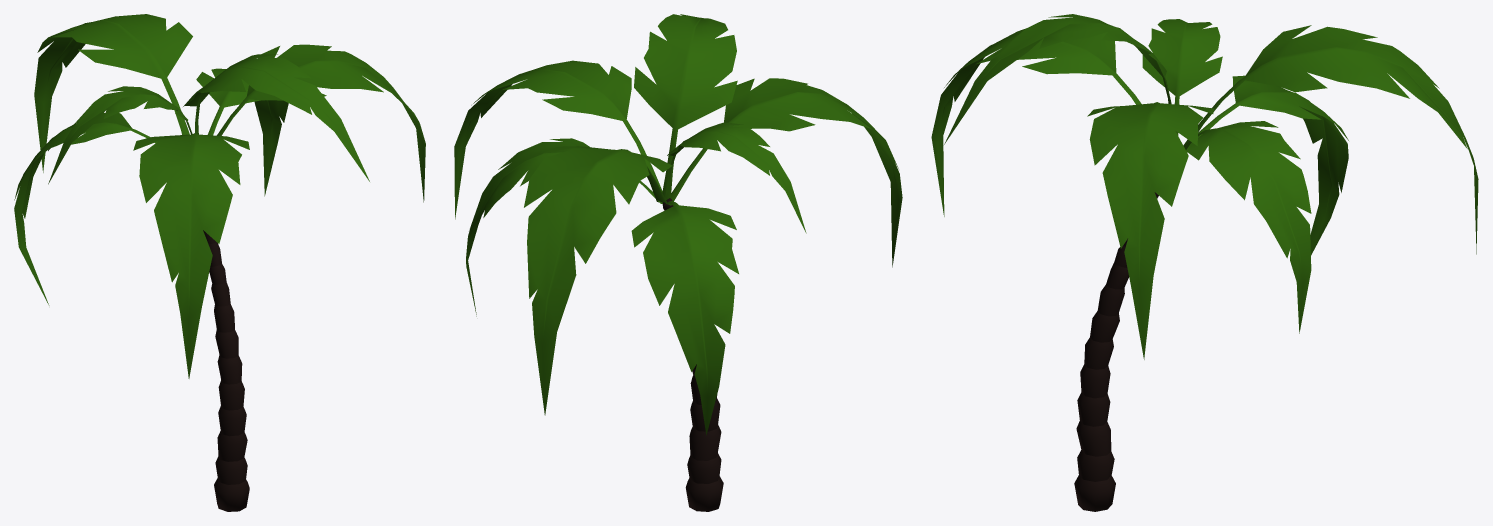
Rendered from palm-tree.obj.
3 renders of one model, left to right at view 1: azimuth 30°, elevation 25°; view 2: azimuth 150°, elevation 25°; view 3: azimuth 270°, elevation 25°, orthographic. The views are drawn at different scales.
Visible parts, largest first — view 1: PalmLeaf.006, PalmLeaf.002, PalmWood, PalmLeaf.001, PalmLeaf.005, PalmLeaf.003, PalmLeaf.004, PalmLeaf; view 2: PalmLeaf.002, PalmLeaf.003, PalmLeaf.001, PalmLeaf.006, PalmLeaf.005, PalmWood, PalmLeaf, PalmLeaf.004; view 3: PalmLeaf.005, PalmLeaf.002, PalmLeaf.004, PalmWood, PalmLeaf.003, PalmLeaf.006, PalmLeaf, PalmLeaf.001.
Part boxes in pixels (x1,y1,x2,y2): PalmLeaf.006: (133,133,249,378); PalmLeaf.002: (34,14,192,172); PalmWood: (203,230,249,511); PalmLeaf.001: (183,54,369,181); PalmLeaf.005: (217,44,425,202); PalmLeaf.003: (14,113,157,305); PalmLeaf.004: (196,68,288,196); PalmLeaf: (48,86,192,184); PalmLeaf.002: (524,146,672,415); PalmLeaf.003: (631,201,738,435); PalmLeaf.001: (634,14,737,199); PalmLeaf.006: (670,78,902,267); PalmLeaf.005: (454,60,662,219); PalmWood: (662,198,723,511); PalmLeaf: (665,122,806,233); PalmLeaf.004: (466,138,662,316); PalmLeaf.005: (1087,102,1213,359); PalmLeaf.002: (1183,25,1478,254); PalmLeaf.004: (1184,121,1311,333); PalmWood: (1074,192,1158,511); PalmLeaf.003: (1186,75,1348,255); PalmLeaf.006: (931,28,1141,216); PalmLeaf: (1142,19,1222,135); PalmLeaf.001: (944,14,1171,144).
Bounding box in the file's own units: 4.6 × 5.45 × 5.48.
